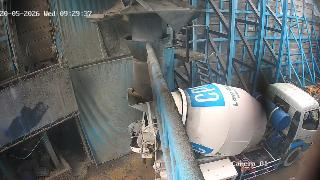cement_mixer_truck: (128, 81, 320, 180)
swing_chute: (124, 35, 174, 101)
